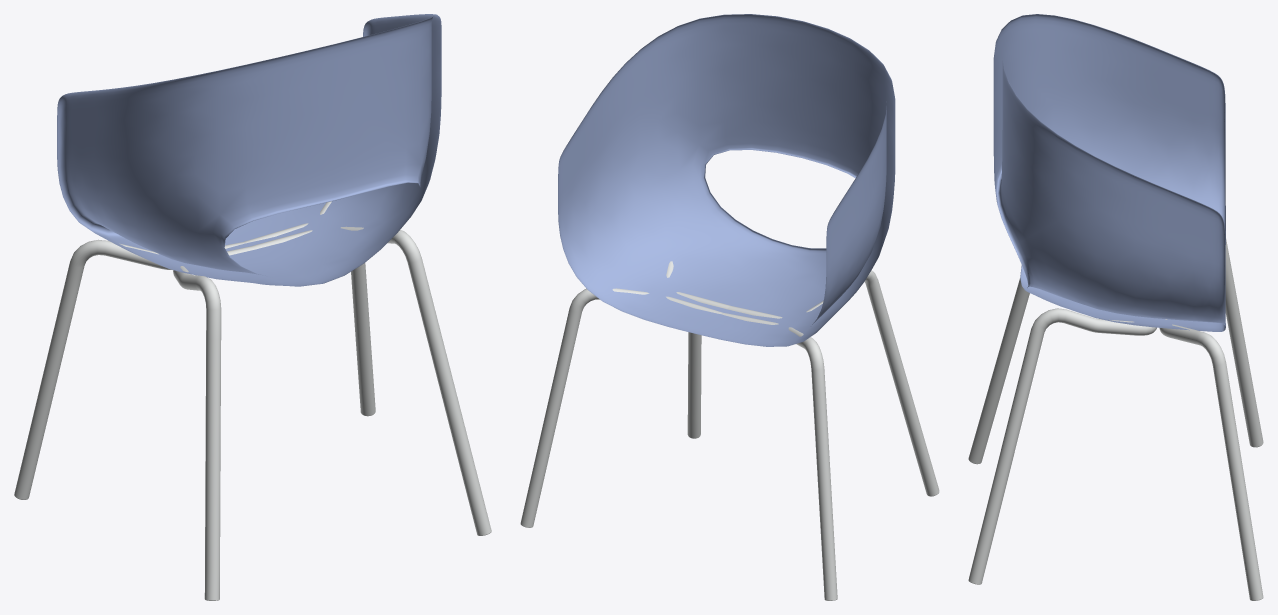
Rendered from seat.gltf.
3 views of the same model, side by side, from view 1: azimuth 30°, elevation 25°; view 2: azimuth 150°, elevation 25°; view 3: azimuth 270°, elevation 25° (orthographic). The views are drawn at different scales.
Parts seen in each view (by area): view 1: Seat, Symmetry; view 2: Seat, Symmetry; view 3: Seat, Symmetry.
Part boxes in pixels (<box>): Seat: <box>57,14,441,286</box>; Symmetry: <box>14,201,491,600</box>; Seat: <box>558,14,895,346</box>; Symmetry: <box>520,261,939,600</box>; Seat: <box>993,14,1225,331</box>; Symmetry: <box>968,239,1263,600</box>.
Size of the model in its own units: 68.68 by 94 by 53.22.
